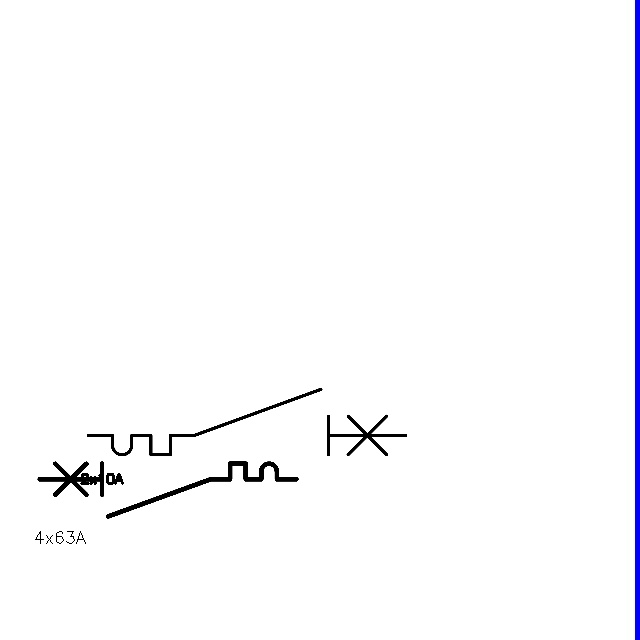interruptor_termomagnetico: (80, 381, 414, 463), (33, 457, 303, 523)
